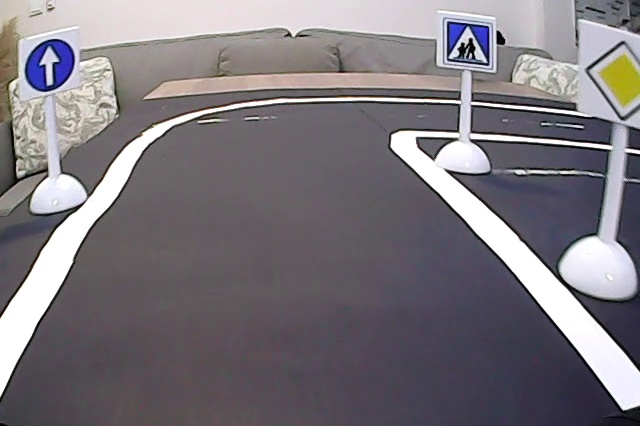school crossing: (441, 17, 494, 69)
